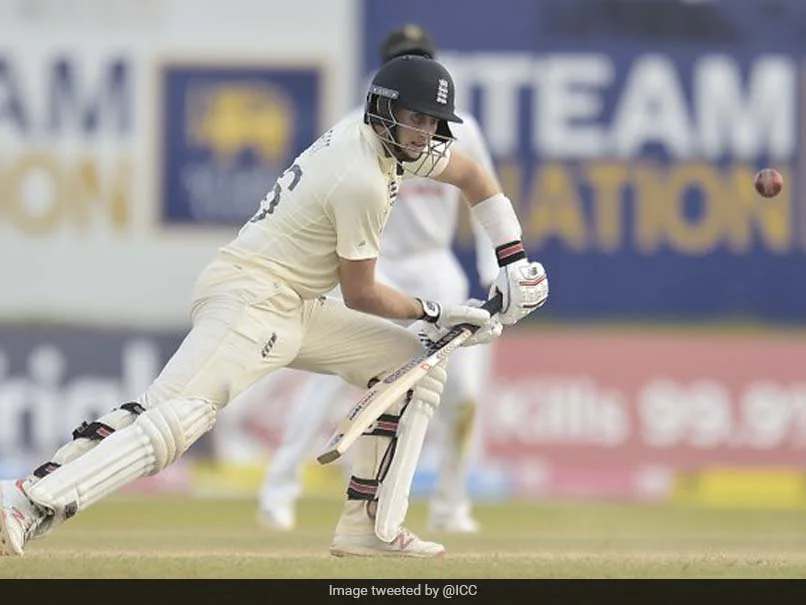Defence: (3, 9, 673, 576)
